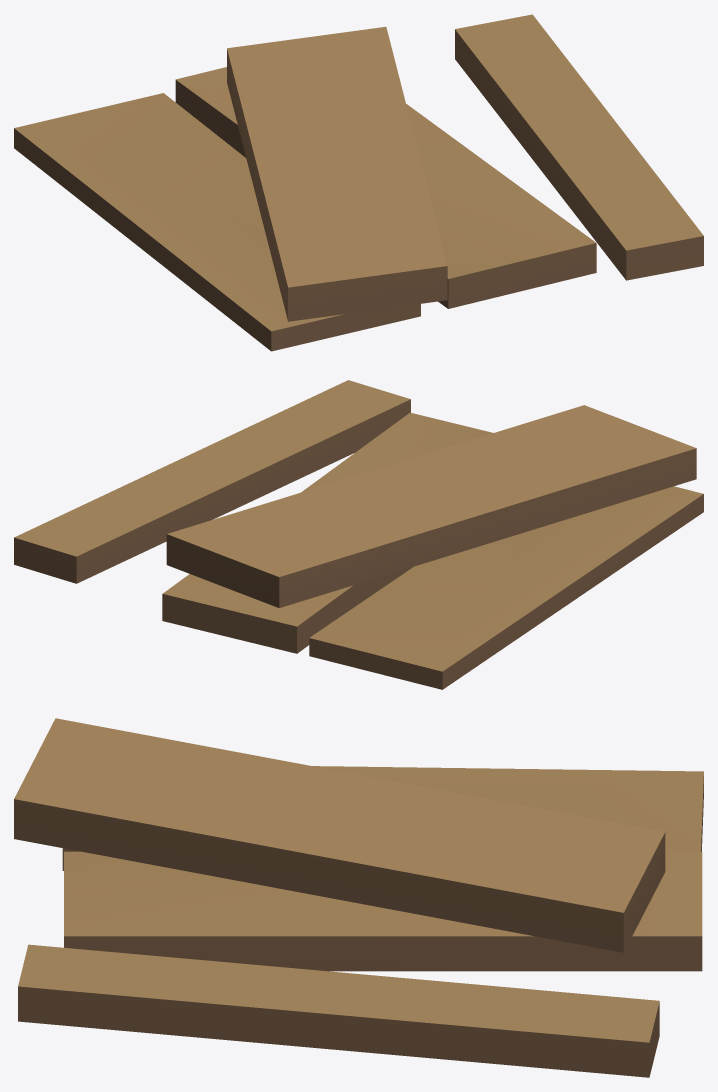
The model's file is planks.glb.
3 views of the same model, one above another, from view 1: azimuth 30°, elevation 25°; view 2: azimuth 150°, elevation 25°; view 3: azimuth 270°, elevation 25° (orthographic). The views are drawn at different scales.
Visible parts, largest first — view 1: planks; view 2: planks; view 3: planks.
Boxes of the visible parts, x1,y1,x2,y2 form: planks: (14,14,703,351); planks: (14,380,703,689); planks: (14,718,703,1077).
Bounding box in the file's own units: 1 × 0.12 × 1.
